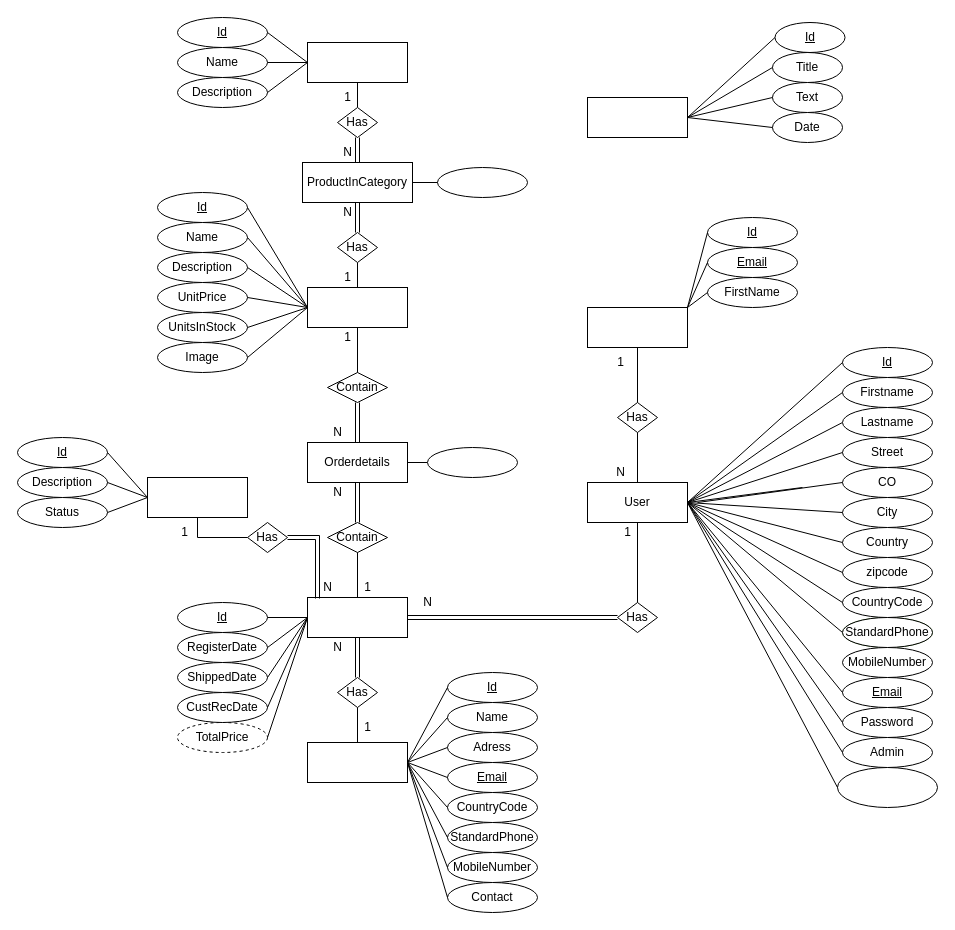
Some shapes in this 955 by 930 pixel diagram are drawn without their labels. The box of each missing label's shape, as (x1, y1, x2, y2) in pixels:
Category: (306, 42, 408, 82)
Courrier: (306, 742, 408, 782)
LastUpdated: (436, 166, 528, 198)
Newsletter: (586, 96, 688, 138)
Order: (306, 596, 408, 638)
OrderStatus: (146, 476, 248, 518)
Product: (306, 286, 408, 328)
Quantity: (426, 446, 518, 478)
SubscriptionNews: (586, 306, 688, 348)
TermsOfPurchase: (836, 766, 938, 808)
